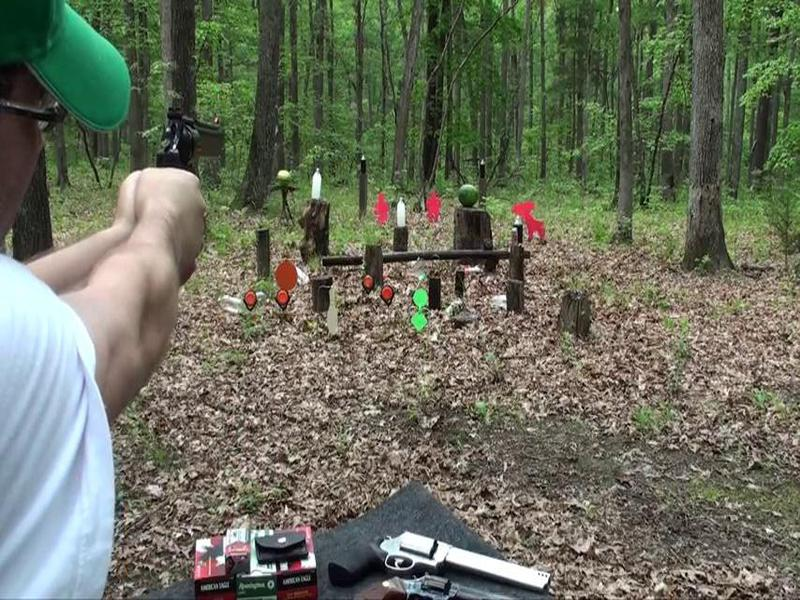Revolver: (147, 100, 234, 200)
